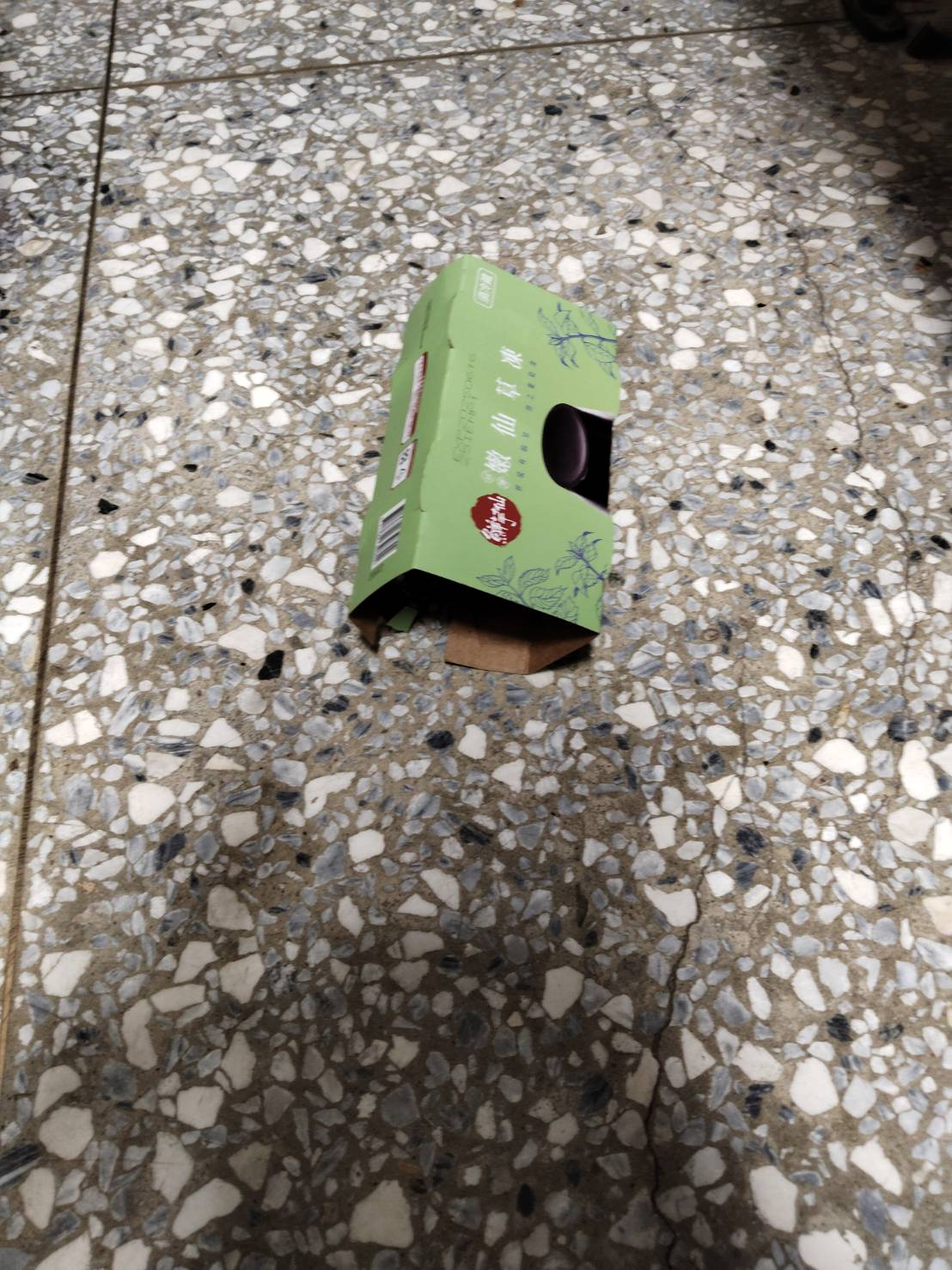paper: (349, 235, 670, 719)
